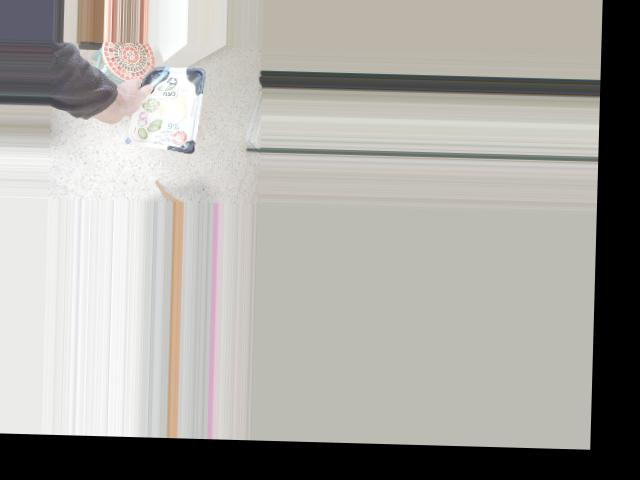cheese: (112, 76, 180, 152)
